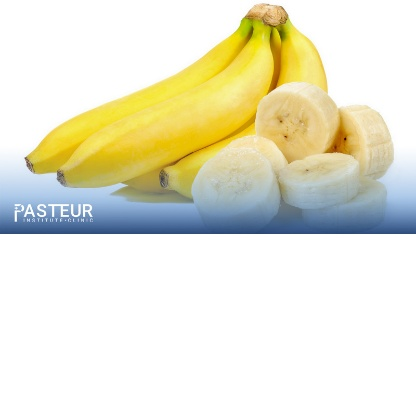chuoi: (19, 4, 400, 215)
